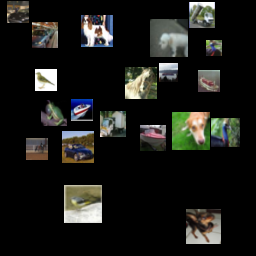automobile: (62, 131, 94, 163), (32, 22, 58, 48), (7, 1, 29, 23)
bird: (64, 185, 102, 223), (211, 118, 240, 147), (35, 69, 57, 91), (206, 40, 222, 56)
dog: (150, 19, 188, 57), (172, 112, 210, 150), (186, 209, 221, 244), (81, 15, 113, 47)
frog: (41, 100, 67, 126)
ship: (140, 125, 166, 151), (71, 99, 93, 121), (198, 70, 220, 92), (159, 63, 178, 82)
